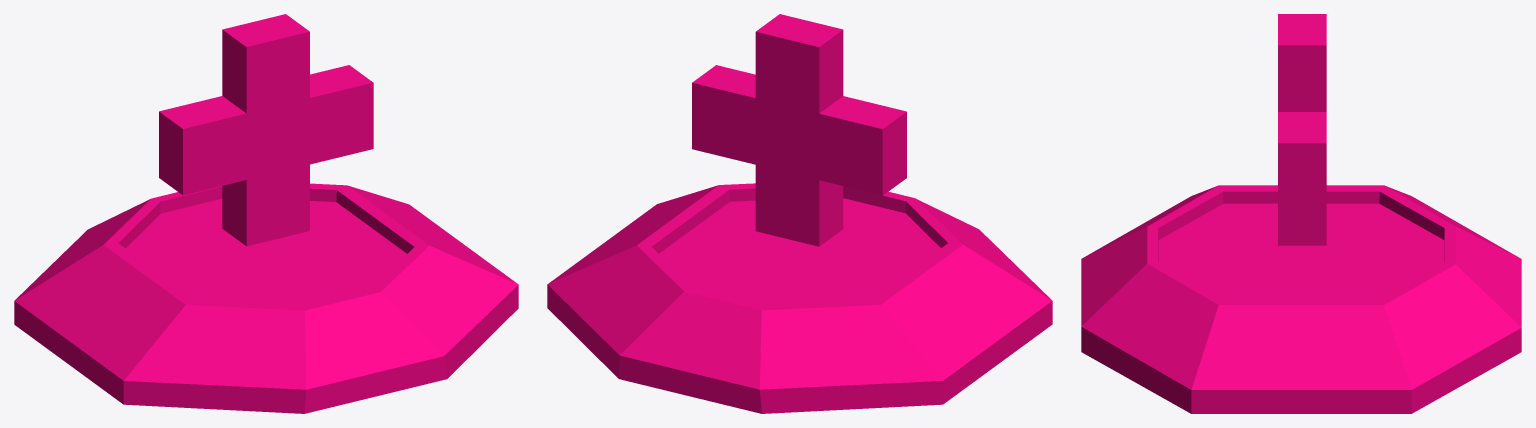
File: lifestand.fbx
3 views of the same model, side by side, from view 1: azimuth 30°, elevation 25°; view 2: azimuth 150°, elevation 25°; view 3: azimuth 270°, elevation 25° (orthographic).
Parts seen in each view (by area): view 1: lifestand, life1; view 2: lifestand, life1; view 3: lifestand, life1.
Part boxes in pixels (x1=…): lifestand: x1=14, y1=183, x2=518, y2=413; life1: x1=159, y1=14, x2=373, y2=246; lifestand: x1=547, y1=183, x2=1052, y2=413; life1: x1=692, y1=14, x2=906, y2=246; lifestand: x1=1081, y1=185, x2=1521, y2=413; life1: x1=1278, y1=14, x2=1326, y2=245.
Bounding box in the file's own units: 0.7298 × 0.5042 × 0.7002.
